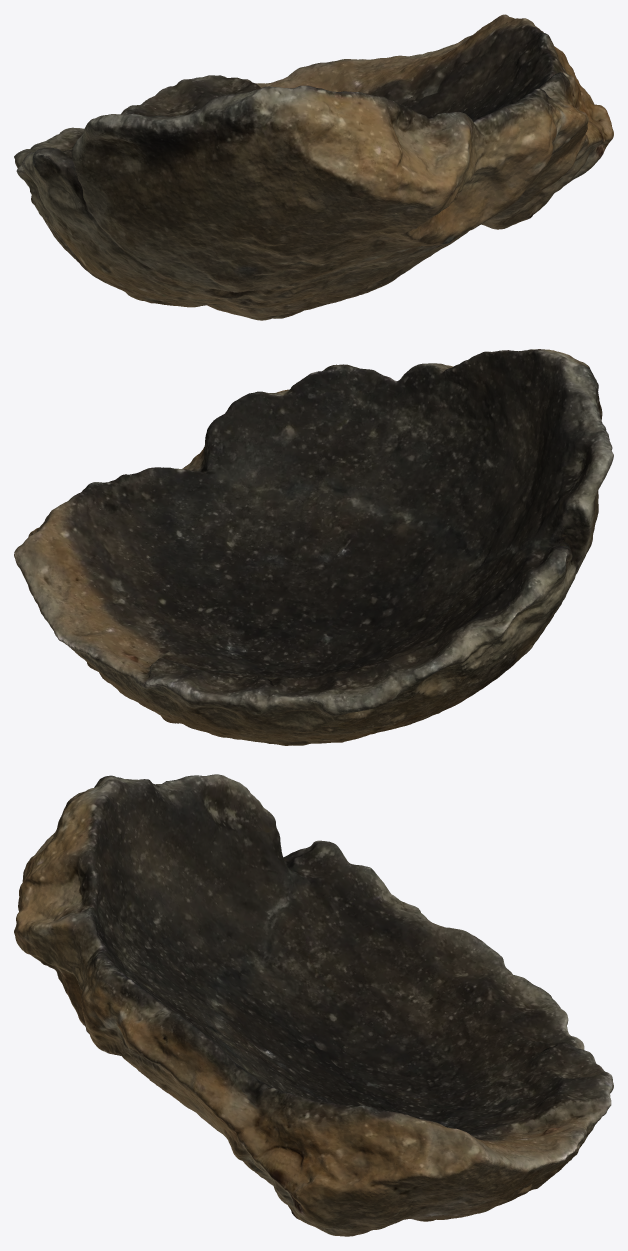
3 renders of one model, top to bottom at view 1: azimuth 30°, elevation 25°; view 2: azimuth 150°, elevation 25°; view 3: azimuth 270°, elevation 25°, orthographic. The views are drawn at different scales.
Visible parts, largest first — view 1: Mesh_0; view 2: Mesh_0; view 3: Mesh_0.
Boxes of the visible parts, <box> form: Mesh_0: <box>14,14,613,320</box>; Mesh_0: <box>14,349,613,745</box>; Mesh_0: <box>14,774,613,1236</box>.
Bounding box in the file's own units: 0.1831 × 0.1091 × 0.1759.
Materials: 1 (1 with a texture image).
